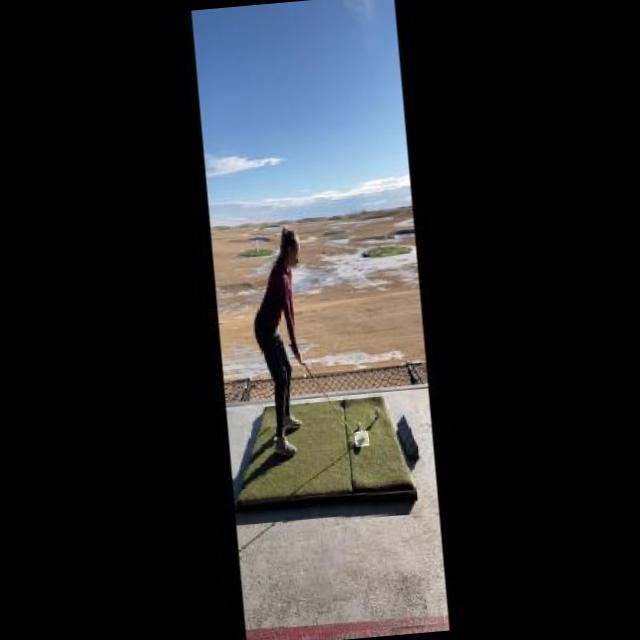club head: (354, 431, 369, 446)
